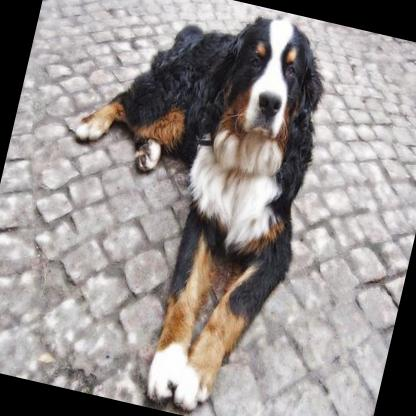Bernese_mountain_dog: (3, 0, 344, 416)
